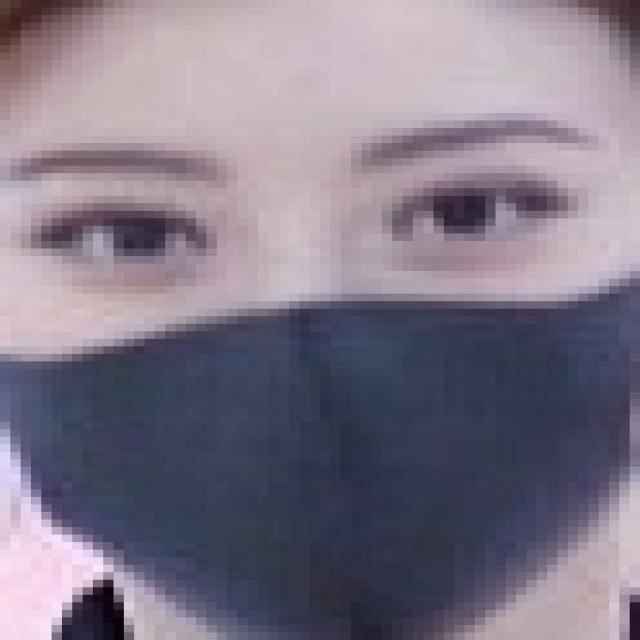mask: (8, 58, 640, 623)
